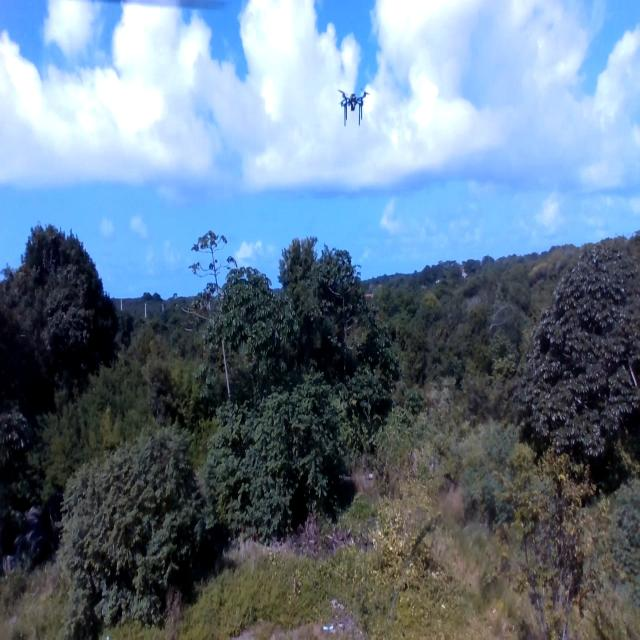-uav-: (328, 73, 377, 144)
